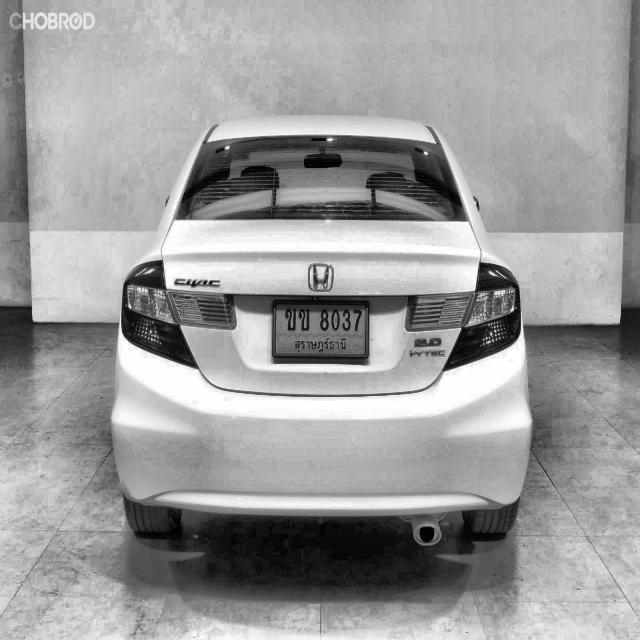license-plate: (270, 288, 372, 369)
